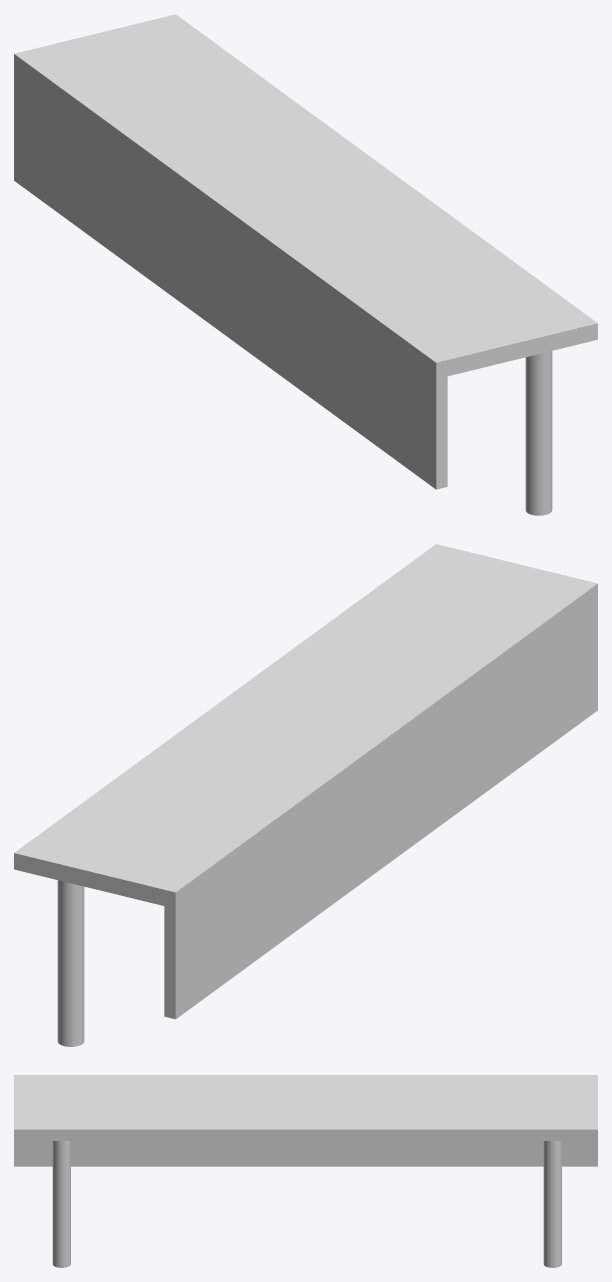
File: cars_parking.glb
3 views of the same model, one above another, from view 1: azimuth 30°, elevation 25°; view 2: azimuth 150°, elevation 25°; view 3: azimuth 270°, elevation 25° (orthographic). The views are drawn at different scales.
Visible parts, largest first — view 1: CARS PARKING_Material.059_0; view 2: CARS PARKING_Material.059_0; view 3: CARS PARKING_Material.059_0.
Boxes of the visible parts, left/top/right/bottom form: CARS PARKING_Material.059_0: left=14, top=14, right=597, bottom=515; CARS PARKING_Material.059_0: left=14, top=544, right=597, bottom=1046; CARS PARKING_Material.059_0: left=14, top=1075, right=597, bottom=1267.
Size of the model in its own units: 0.7306 by 0.8896 by 3.3.
1 material, 1 textured.
